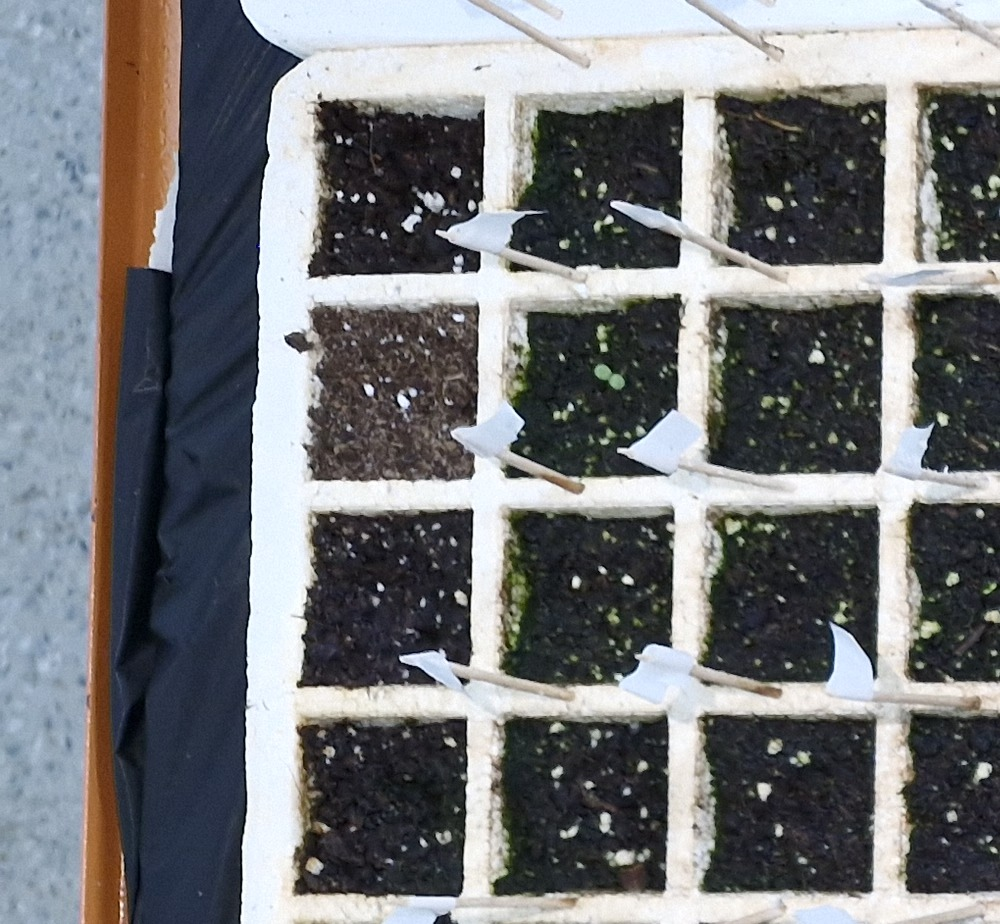Folha: (594, 365, 612, 381), (609, 374, 625, 390)
Germinacao: (592, 364, 626, 389), (984, 583, 997, 594)
